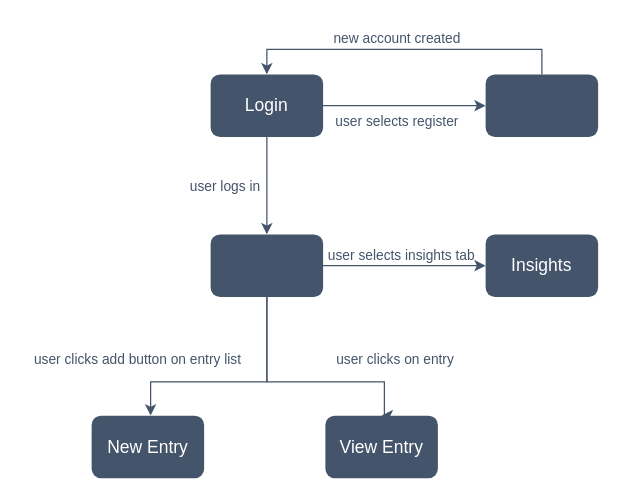
Some shapes in this 619 by 499 pixel diagram are drawn without their labels. The shapes that lost their labels are listed below. From the top down, each one's centre as x and y in pixels, then its label:
point (541, 105): Register
point (266, 265): Your Activity
